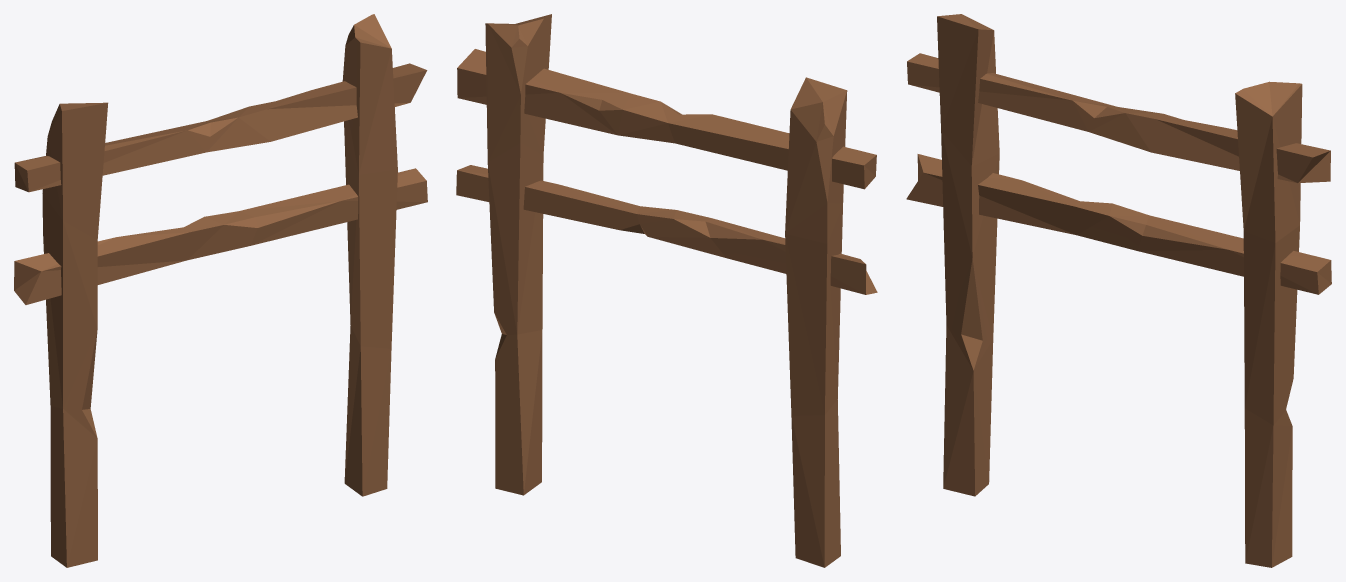
Rendered from fence_high.fbx.
3 renders of one model, left to right at view 1: azimuth 30°, elevation 25°; view 2: azimuth 150°, elevation 25°; view 3: azimuth 330°, elevation 25°, orthographic. The views are drawn at different scales.
Visible parts, largest first — view 1: fence; view 2: fence; view 3: fence.
Part boxes in pixels (x1,y1,x2,y2): fence: (14, 14, 427, 567); fence: (456, 14, 877, 567); fence: (906, 14, 1331, 567).
Size of the model in its own units: 600 by 654 by 66.48.
